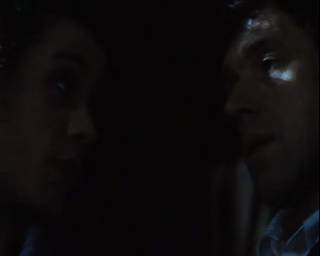cu: (1, 1, 320, 256)
face: (220, 10, 320, 208), (1, 24, 98, 214)
person: (221, 1, 320, 256), (1, 1, 99, 256)
